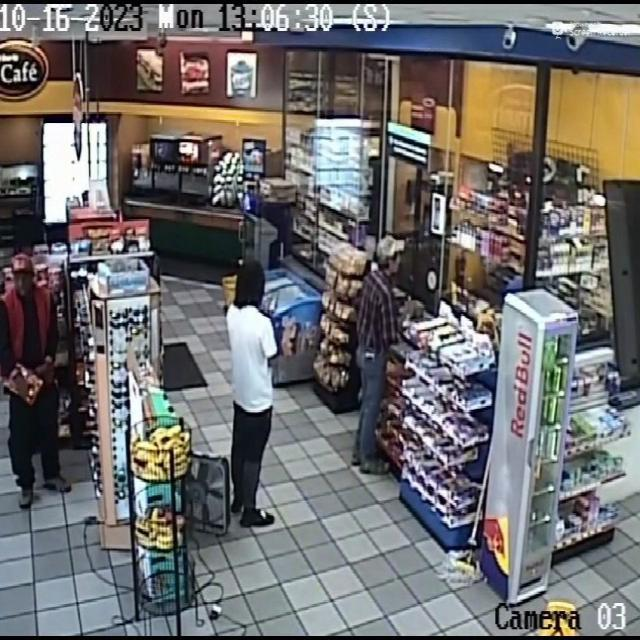Normal: (218, 253, 290, 544), (3, 247, 80, 515), (342, 217, 410, 490)
